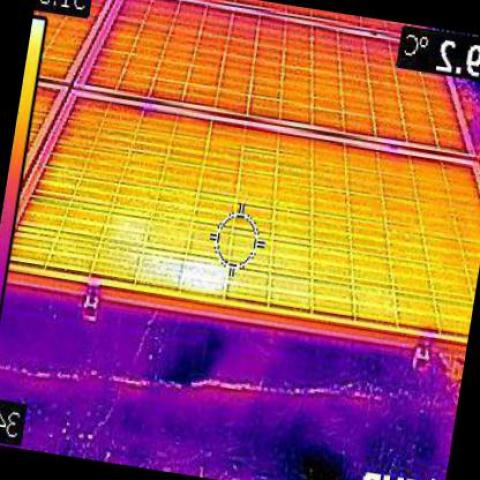fault: (151, 254, 223, 292)
